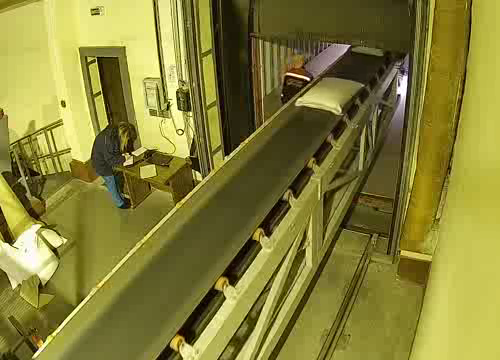bag: (294, 69, 367, 119), (350, 45, 385, 58)
